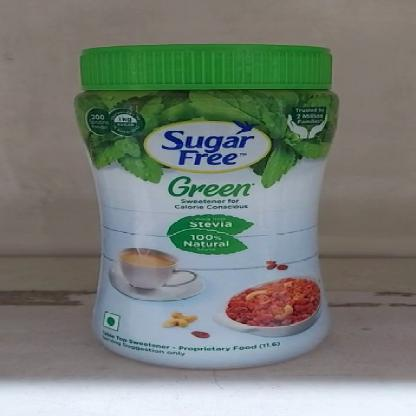SUGAR FREE_GRN_ POWDER_CONC_100G: (74, 44, 340, 372)
